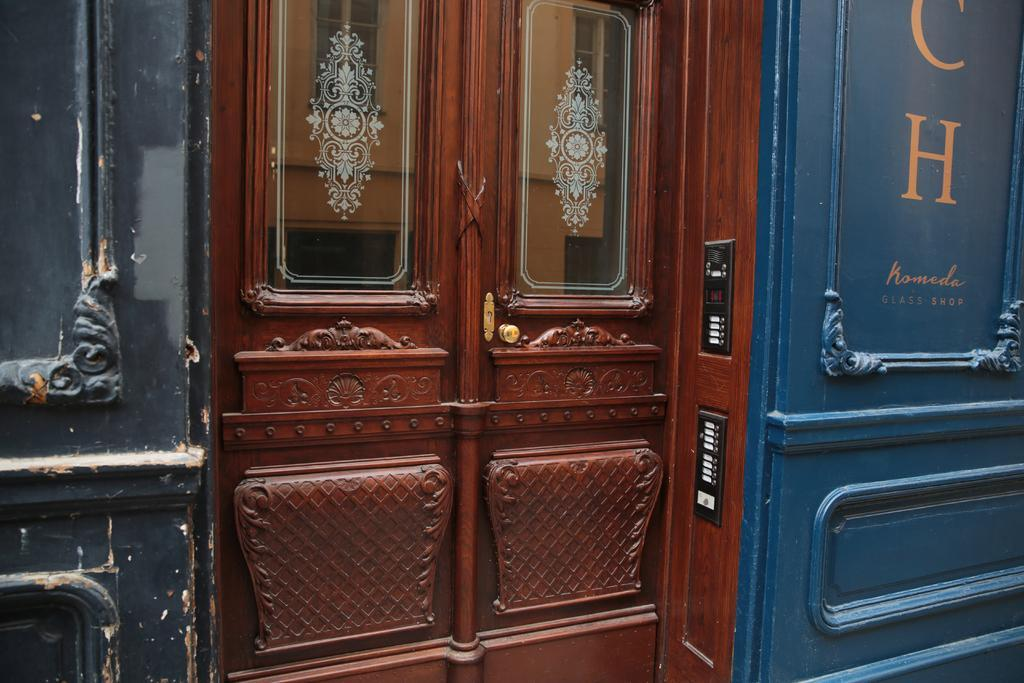door: (248, 22, 450, 683), (489, 7, 663, 681)
handle: (497, 318, 524, 346)
